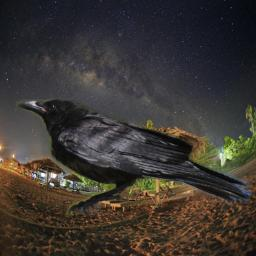Crow: (16, 97, 252, 218)
